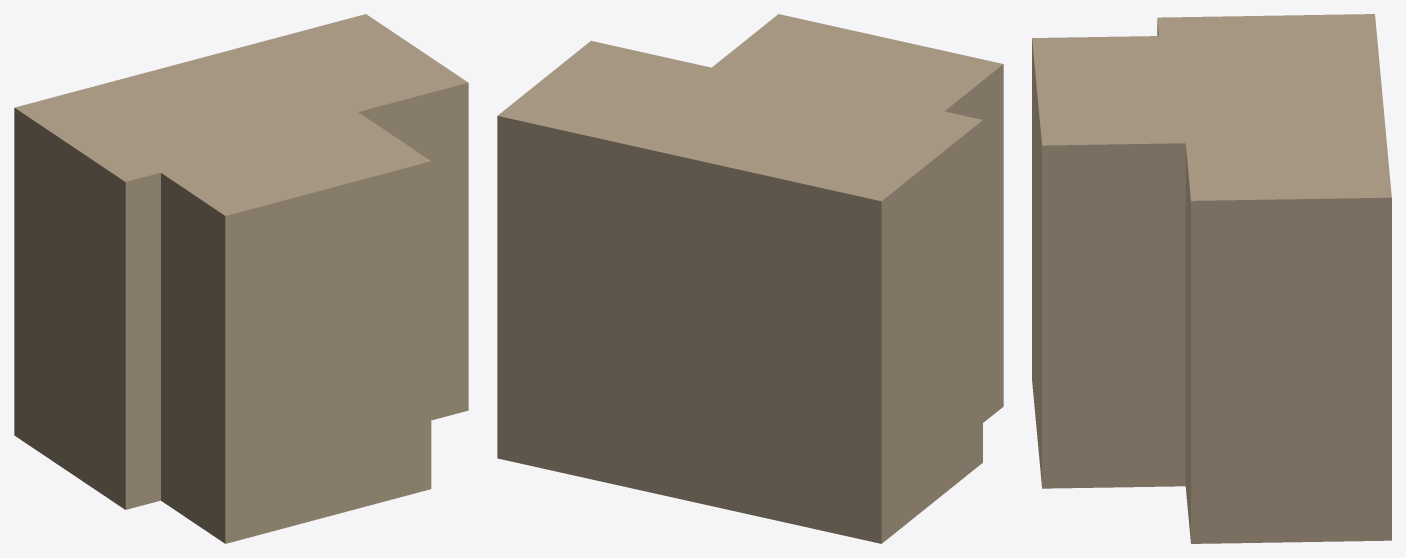
The model's file is bld_106415143.dae.
The picture shows the model from 3 angles, left to right: view 1: azimuth 30°, elevation 25°; view 2: azimuth 150°, elevation 25°; view 3: azimuth 270°, elevation 25°; orthographic projection. The views are drawn at different scales.
Visible parts, largest first — view 1: bld_106415143; view 2: bld_106415143; view 3: bld_106415143.
Boxes of the visible parts, box(x1,y1,x2,y2) form: bld_106415143: box(14, 14, 468, 543); bld_106415143: box(497, 14, 1003, 543); bld_106415143: box(1032, 14, 1391, 543).
Bounding box in the file's own units: 9.35 × 7.6 × 8.
